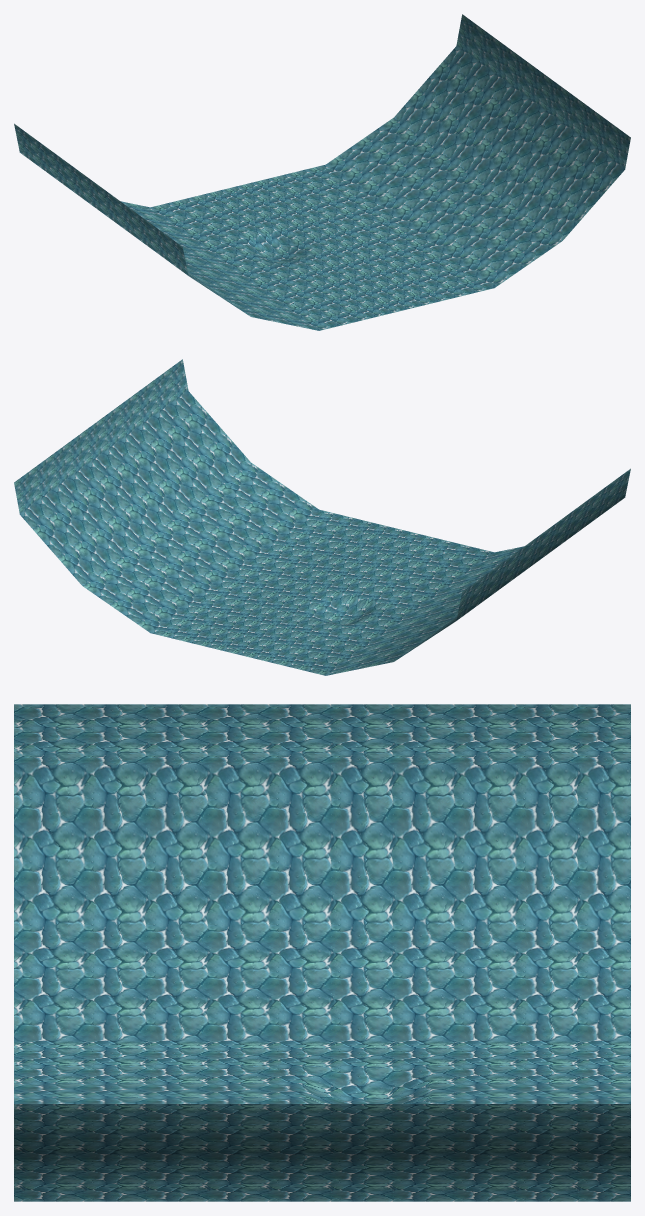
The model's file is plane_small_pit.FBX.
The picture shows the model from 3 angles, top to bottom: view 1: azimuth 30°, elevation 25°; view 2: azimuth 150°, elevation 25°; view 3: azimuth 270°, elevation 25°; orthographic projection. The views are drawn at different scales.
Visible parts, largest first — view 1: Plane001; view 2: Plane001; view 3: Plane001.
Boxes of the visible parts, <box> form: Plane001: <box>14,14,630,330</box>; Plane001: <box>14,359,630,675</box>; Plane001: <box>14,704,630,1201</box>.
Size of the model in its own units: 90.55 by 24.29 by 59.06.
1 material, 1 textured.
